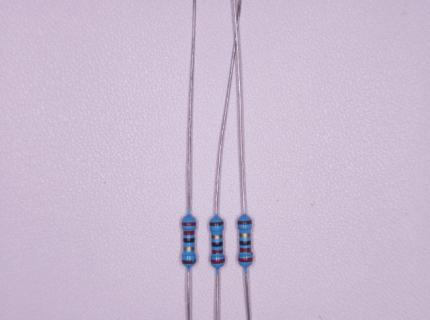Black band: (212, 241, 223, 247), (183, 238, 195, 243), (239, 240, 251, 245)
Brown band: (237, 220, 252, 225), (210, 222, 223, 227), (182, 260, 196, 264)
Gold band: (211, 234, 222, 239), (183, 247, 195, 251), (239, 233, 251, 237)
Red band: (211, 258, 225, 264), (238, 257, 253, 262), (182, 222, 196, 226), (183, 230, 194, 235), (240, 247, 251, 252), (212, 250, 223, 254)
